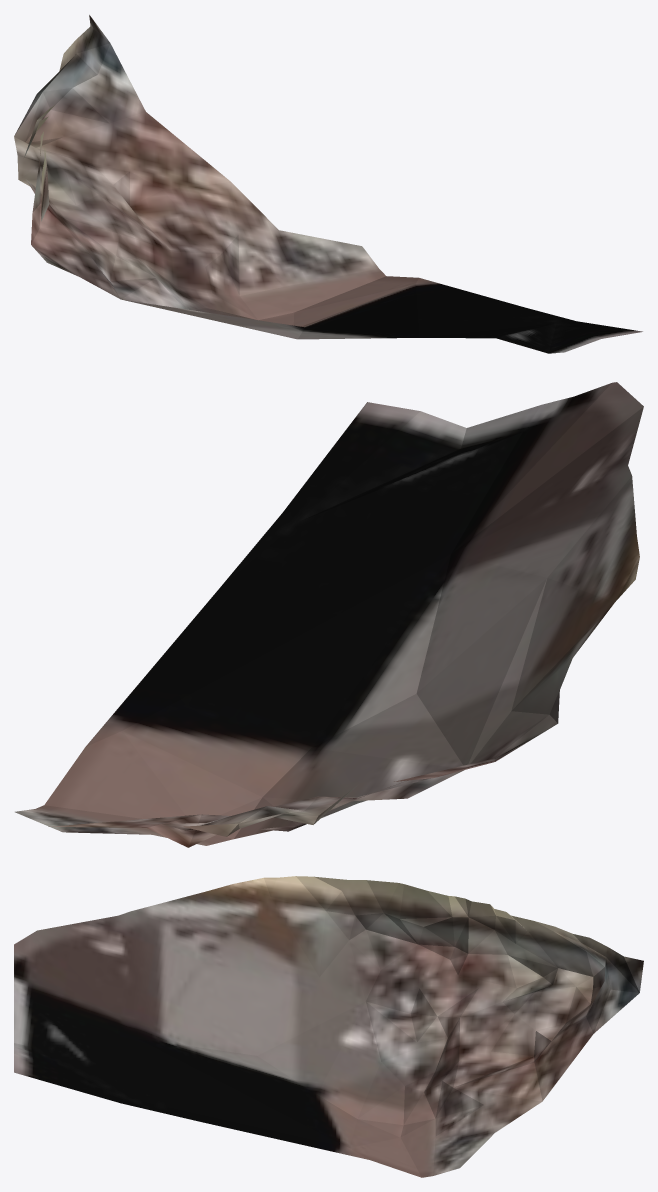
3 renders of one model, top to bottom at view 1: azimuth 30°, elevation 25°; view 2: azimuth 150°, elevation 25°; view 3: azimuth 270°, elevation 25°, orthographic. The views are drawn at different scales.
Size of the model in its own units: 2.08 by 1.05 by 3.82.
Materials: 1 (1 with a texture image).
